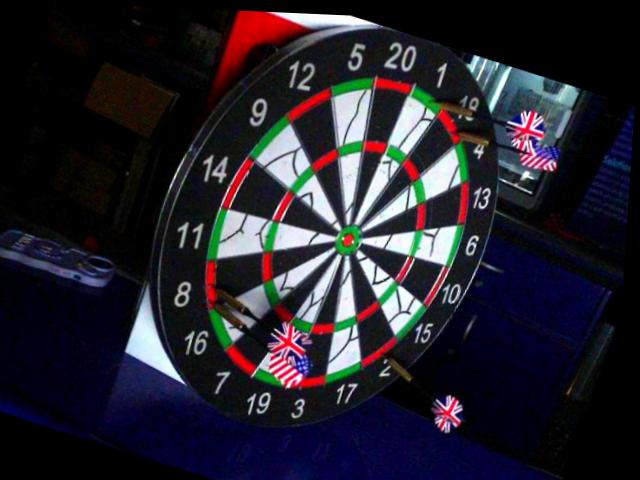double_1: (412, 90, 436, 112)
double_2: (363, 337, 398, 368)
double_4: (436, 110, 464, 145)
double_8: (204, 261, 224, 309)
